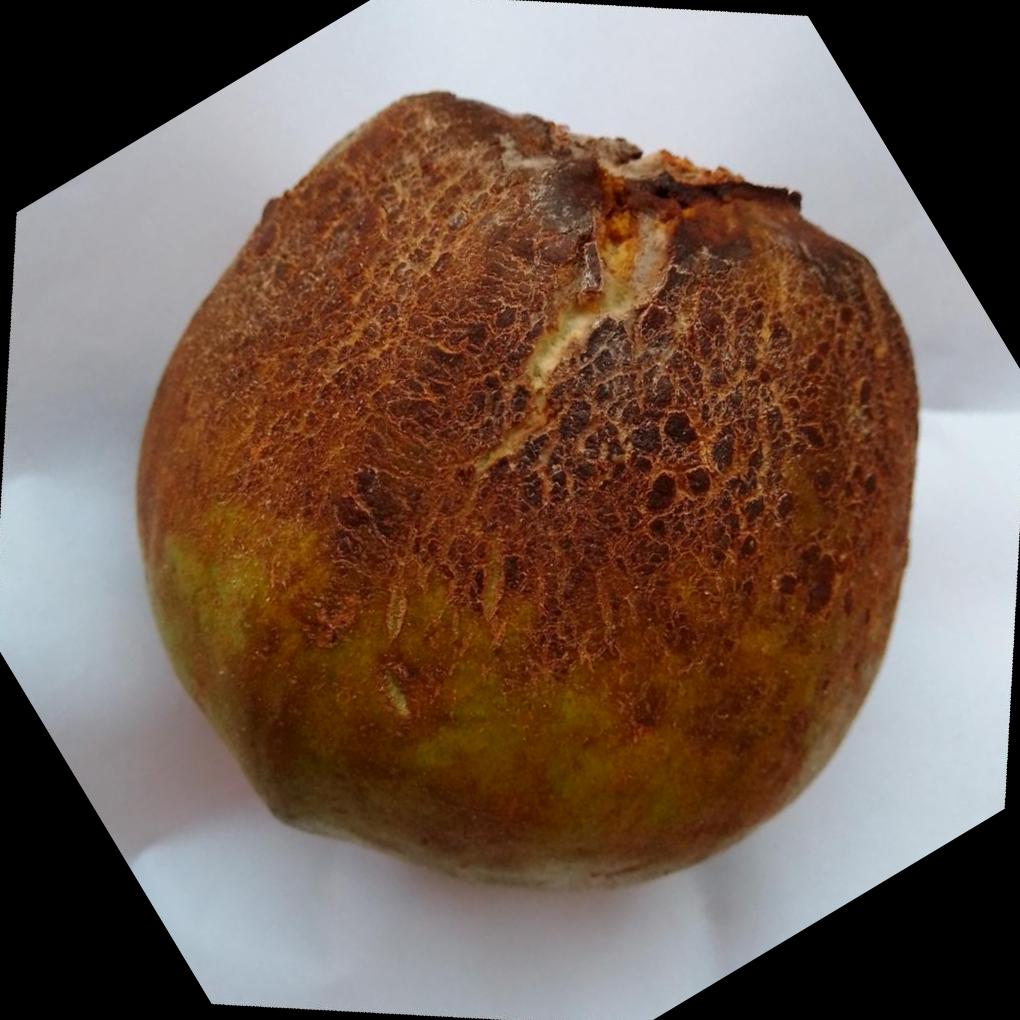FreshOrange: (134, 89, 923, 896)
